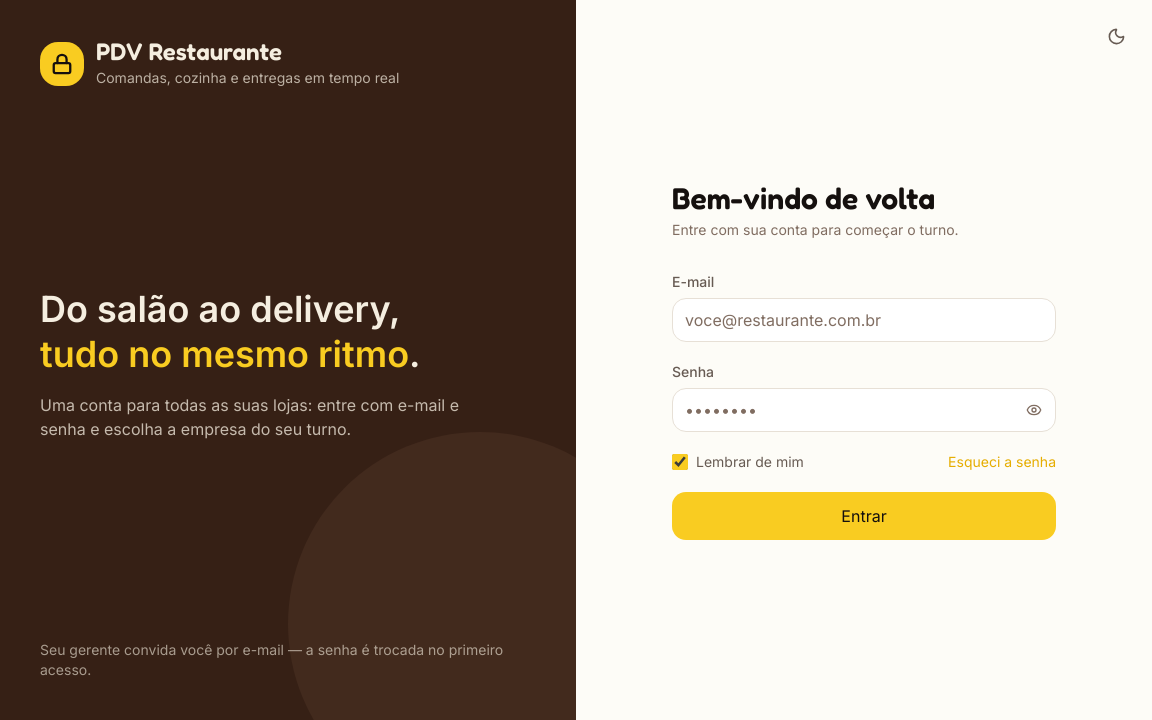
Scenario: LoginPage — e-mail + senha › erro de rede mostra aviso de conexão, não de credencial
This screenshot has width=1152, height=720.
Type "ana@pdv.local" into the field labelled "E-mail" at (864, 320), box [672, 298, 1056, 342]
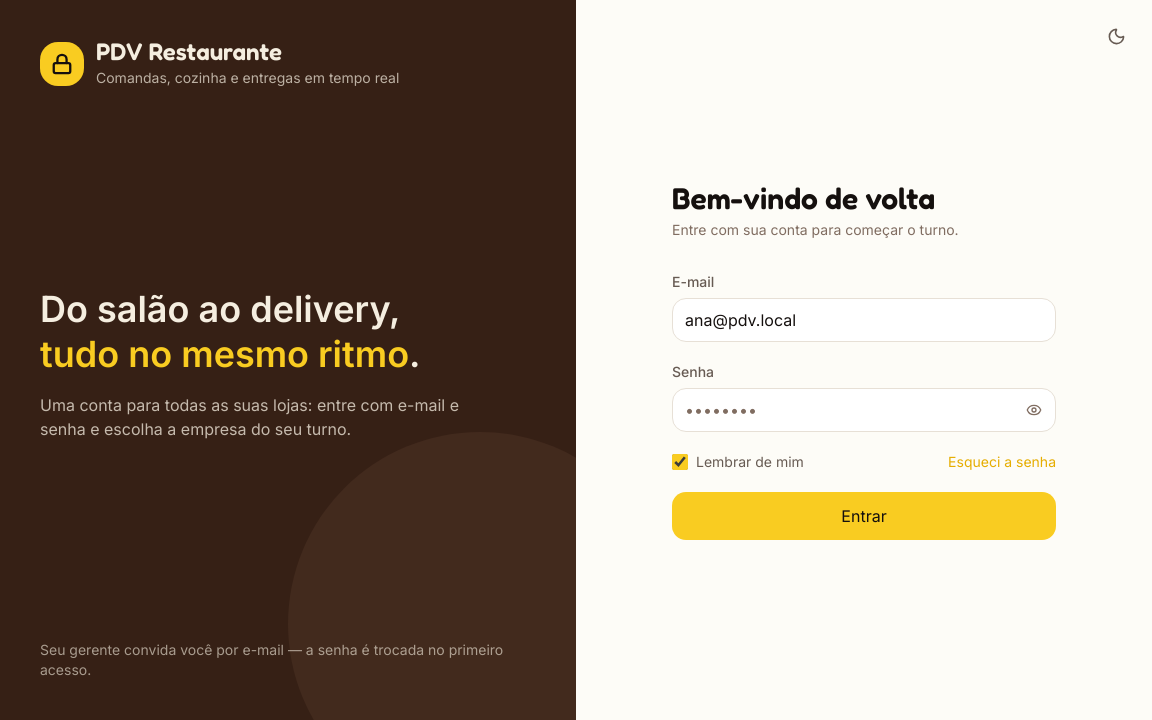
Type "segredo" into the password field labelled "Senha" at (864, 410), box [672, 388, 1056, 432]
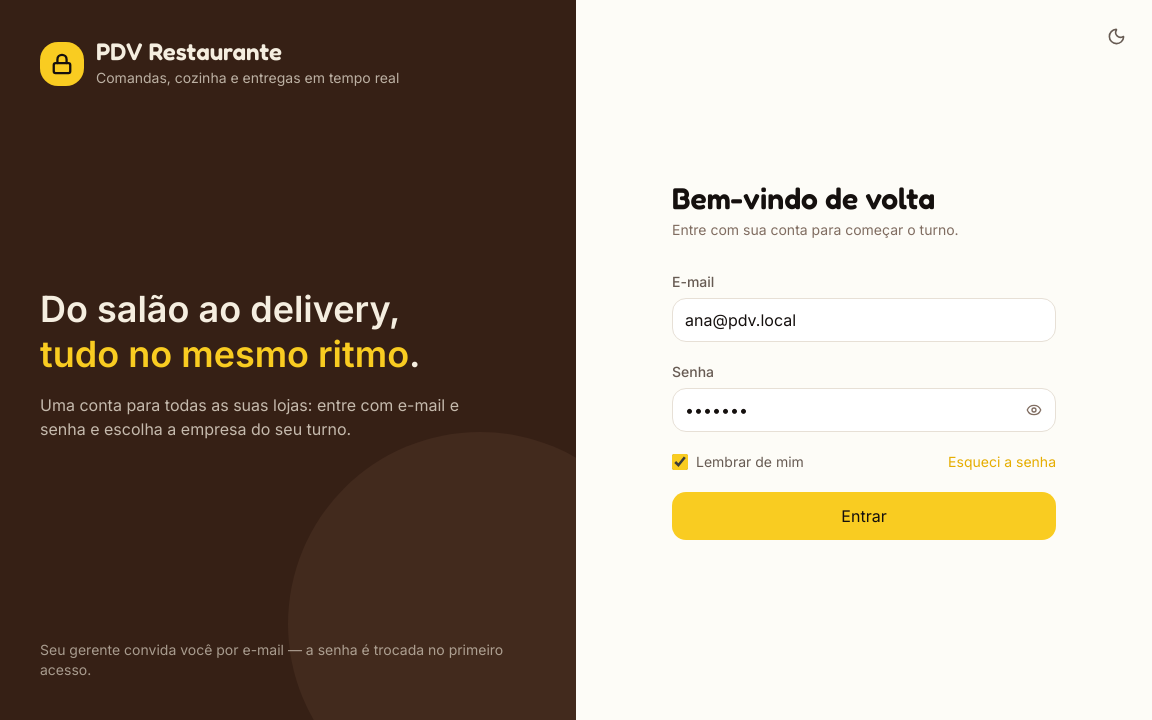
Click the checkbox labelled "Lembrar de mim" at (680, 462), box [672, 454, 688, 470]
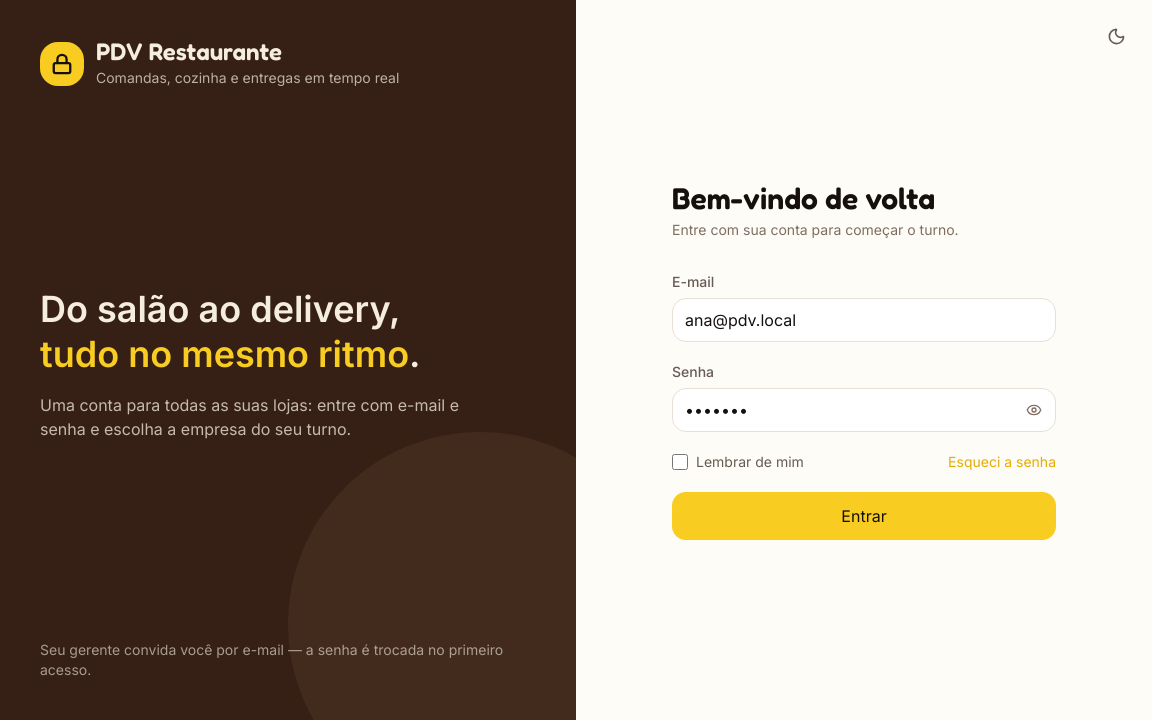
Click the button "Entrar" at (864, 516), box [672, 492, 1056, 540]
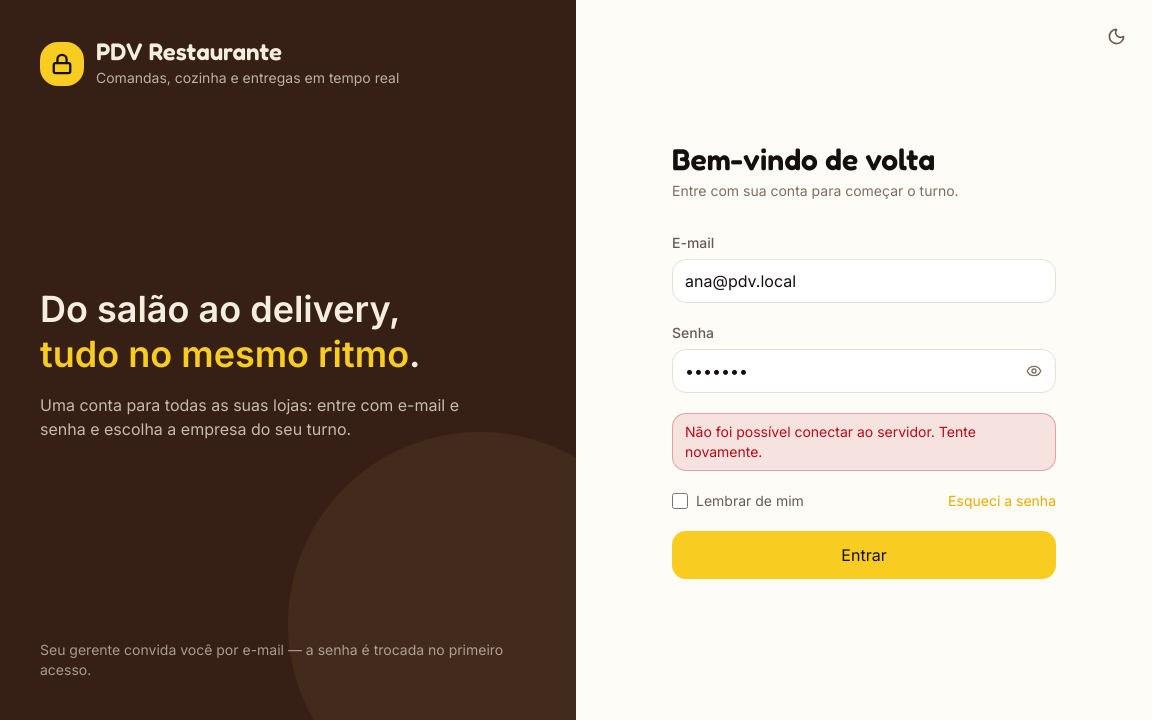
Now the text "Não foi possível conectar ao servidor. Tente novamente." is shown, box [672, 413, 1056, 471]
